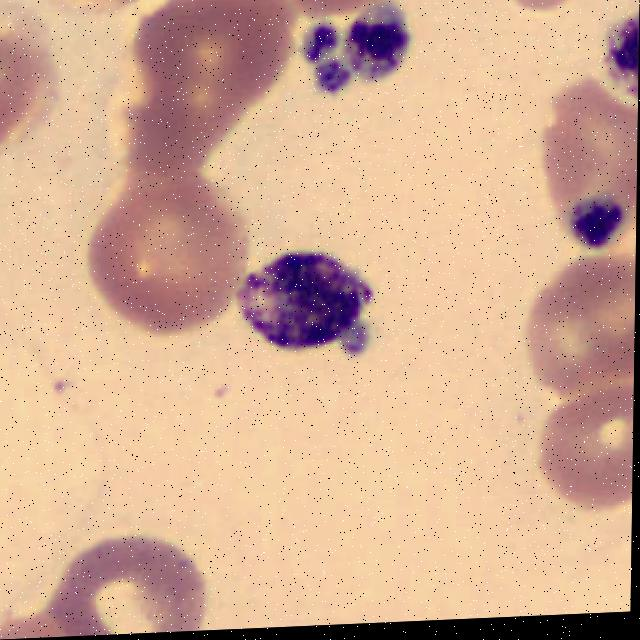platelets: (234, 246, 372, 366), (349, 11, 406, 82), (301, 12, 347, 98), (567, 198, 628, 251), (602, 18, 639, 99)
rbc: (104, 0, 299, 178), (81, 180, 253, 352), (54, 530, 211, 637), (522, 96, 638, 234), (525, 257, 636, 398), (516, 397, 634, 528), (0, 28, 62, 185), (0, 606, 62, 640)
